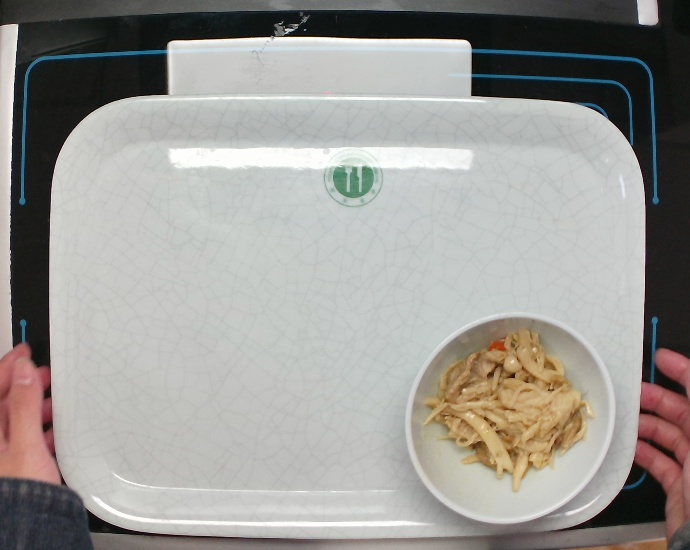JYsf-Fan_Wan: (402, 309, 618, 526)
